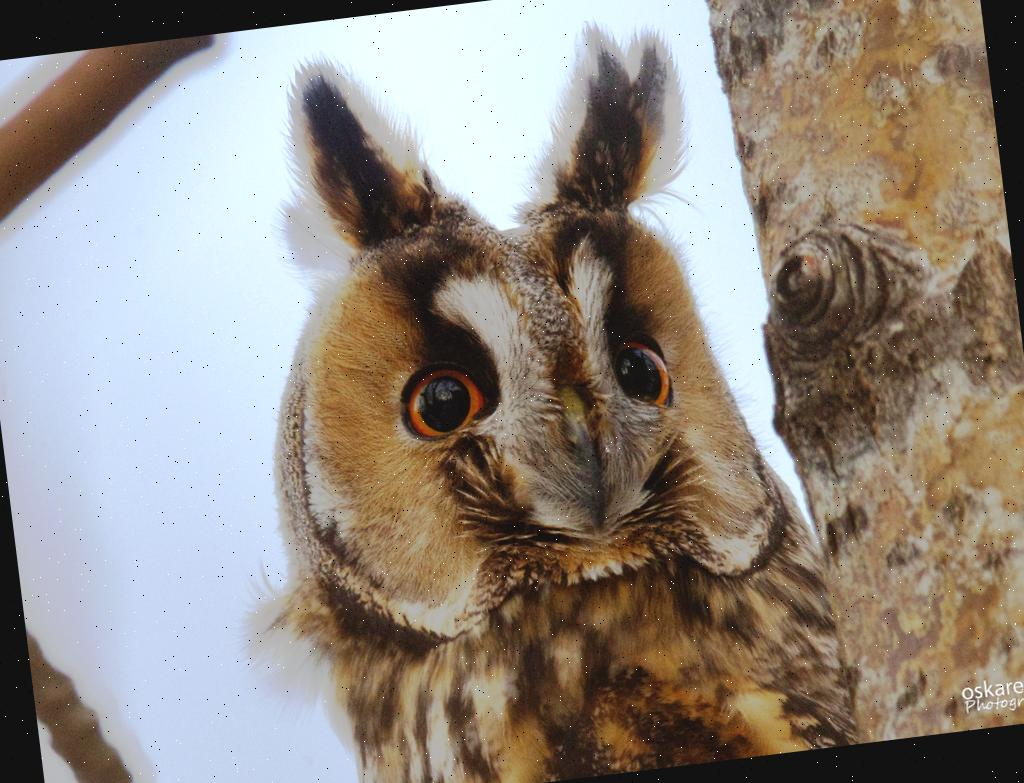Owl: (185, 10, 850, 783)
